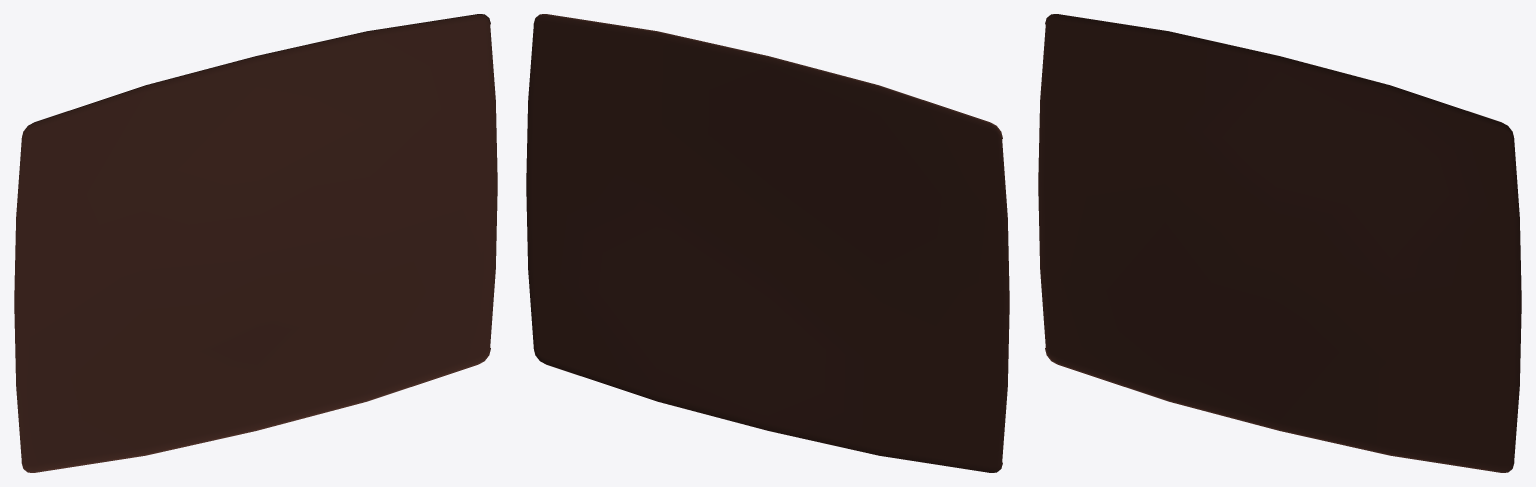
File: Screen.fbx
The picture shows the model from 3 angles, left to right: view 1: azimuth 30°, elevation 25°; view 2: azimuth 150°, elevation 25°; view 3: azimuth 330°, elevation 25°; orthographic projection.
Visible parts, largest first — view 1: Cube.001; view 2: Cube.001; view 3: Cube.001.
Boxes of the visible parts, x1,y1,x2,y2 form: Cube.001: (14, 14, 497, 472); Cube.001: (526, 14, 1009, 472); Cube.001: (1038, 14, 1521, 472).
Size of the model in its own units: 287 by 212 by 4.84.
